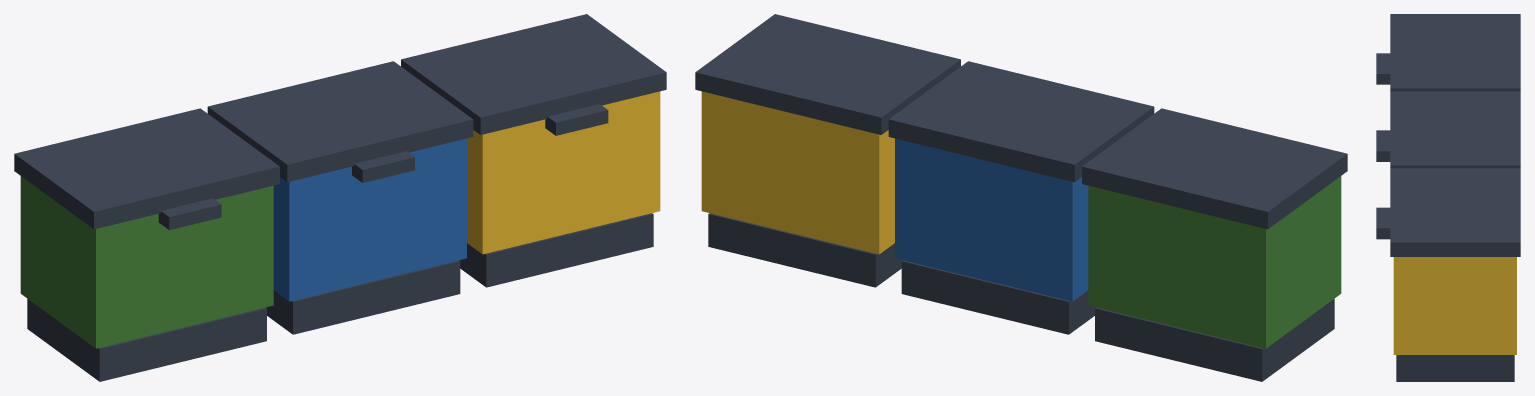
The model's file is cittaCassonetti.glb.
The picture shows the model from 3 angles, left to right: view 1: azimuth 30°, elevation 25°; view 2: azimuth 150°, elevation 25°; view 3: azimuth 270°, elevation 25°; orthographic projection. The views are drawn at different scales.
Visible parts, largest first — view 1: cittaCassonetti_steelDark, cittaCassonetti_green, cittaCassonetti_yellow, cittaCassonetti_blue; view 2: cittaCassonetti_steelDark, cittaCassonetti_green, cittaCassonetti_yellow, cittaCassonetti_blue; view 3: cittaCassonetti_steelDark, cittaCassonetti_yellow.
Part boxes in pixels (left/top/right/bottom): cittaCassonetti_steelDark: left=14, top=14, right=666, bottom=381; cittaCassonetti_green: left=20, top=176, right=273, bottom=348; cittaCassonetti_yellow: left=467, top=91, right=660, bottom=254; cittaCassonetti_blue: left=273, top=138, right=466, bottom=301; cittaCassonetti_steelDark: left=695, top=14, right=1347, bottom=381; cittaCassonetti_green: left=1088, top=176, right=1341, bottom=348; cittaCassonetti_yellow: left=701, top=91, right=894, bottom=254; cittaCassonetti_blue: left=895, top=138, right=1088, bottom=301; cittaCassonetti_steelDark: left=1376, top=14, right=1520, bottom=381; cittaCassonetti_yellow: left=1393, top=257, right=1516, bottom=354.
Size of the model in its own units: 5.48 by 1.6 by 1.46.
